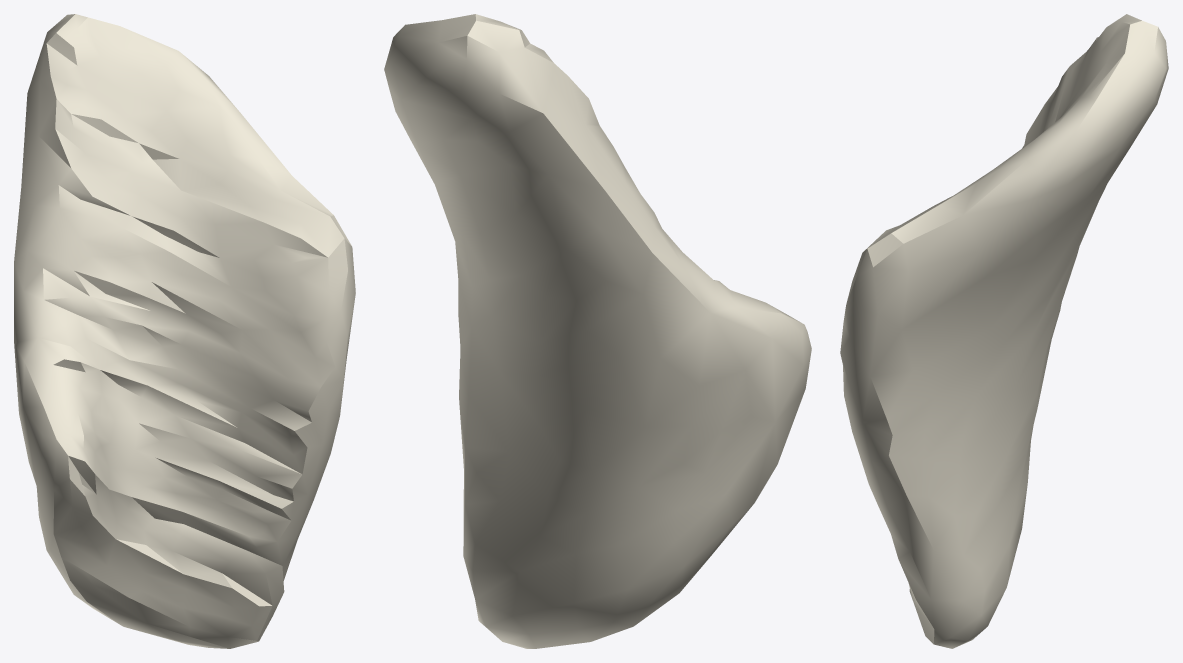
The model's file is fma44447_mm1373m.glb.
3 views of the same model, side by side, from view 1: azimuth 30°, elevation 25°; view 2: azimuth 150°, elevation 25°; view 3: azimuth 270°, elevation 25° (orthographic). The views are drawn at different scales.
Parts seen in each view (by area): view 1: FMA44447_MM1373M; view 2: FMA44447_MM1373M; view 3: FMA44447_MM1373M.
Part boxes in pixels (x1,y1,x2,y2): FMA44447_MM1373M: (14,14,355,648); FMA44447_MM1373M: (384,14,811,648); FMA44447_MM1373M: (840,14,1168,648).
Bounding box in the file's own units: 0.00797 × 0.0149 × 0.00749.
